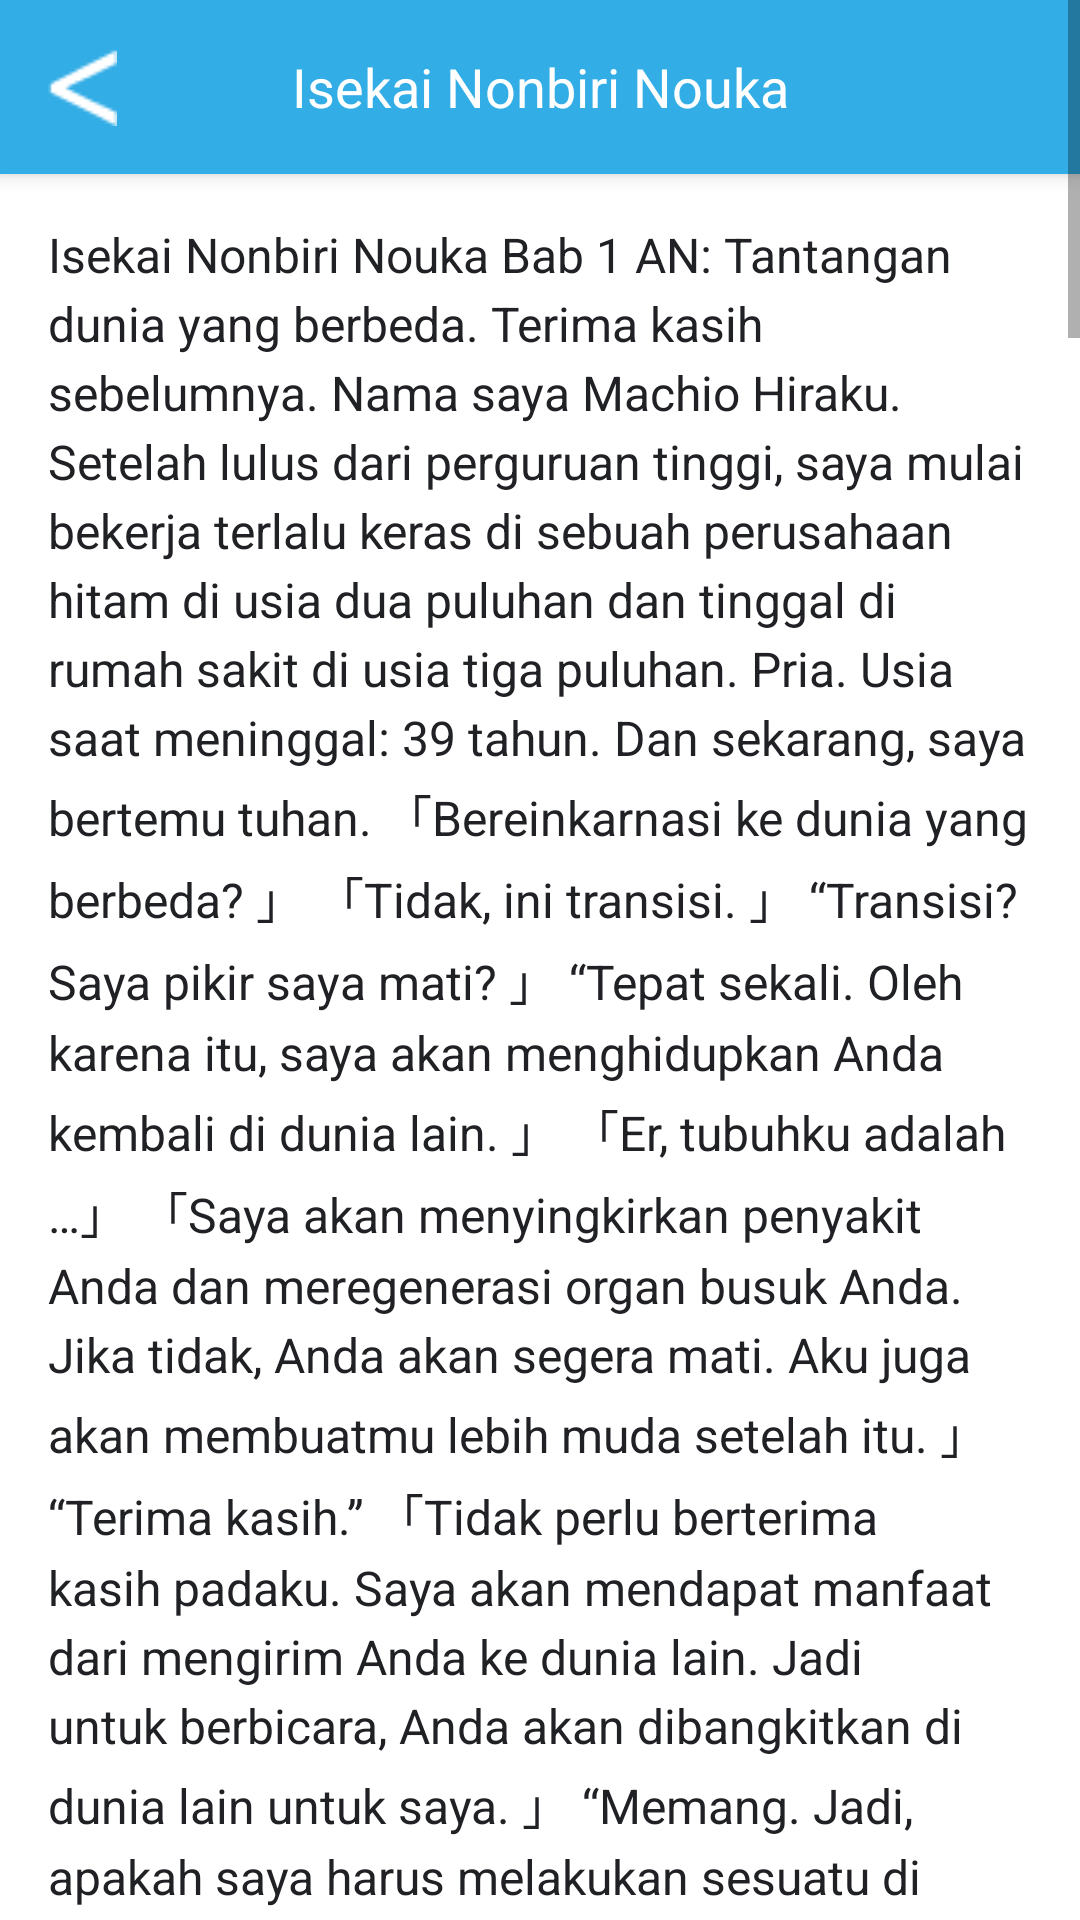

Where icons sit on this 1080w x 1920h app screen, as (x1, y1, x2, y2):
back: (48, 50, 117, 126)
